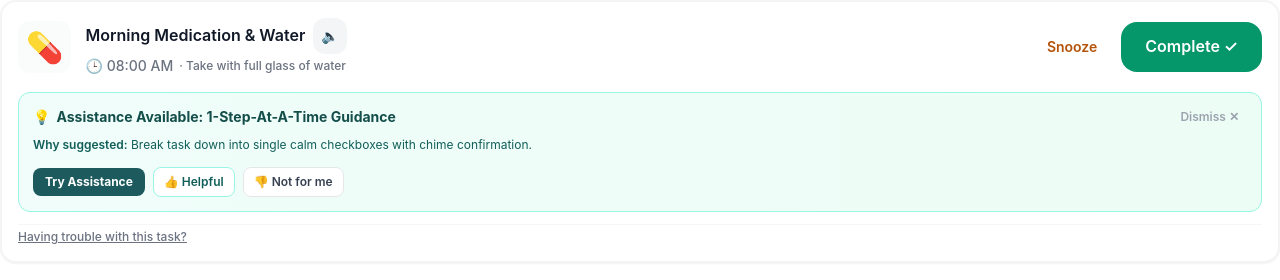
Priority 1: TaskCard Adaptive Assistance Integration › 8. Dismissing removes the recommendation without recording negative feedback
Click the button with aria-label "Dismiss recommendation": (1210, 117) [1172,107,1247,127]
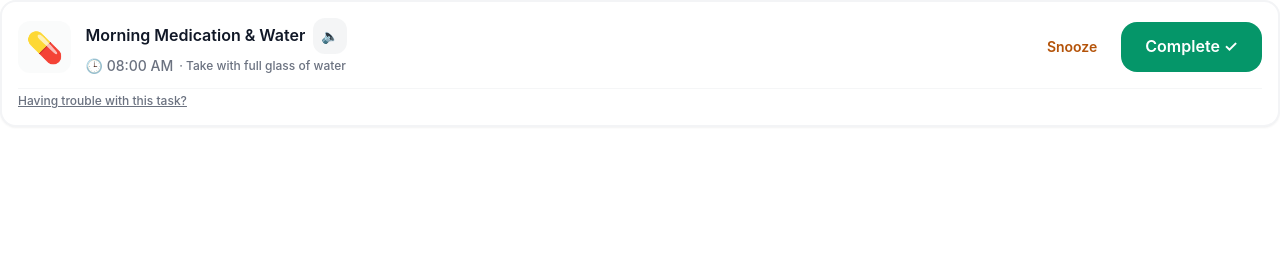
Expected: the element with test id "adaptive-assistance-tray" is gone
